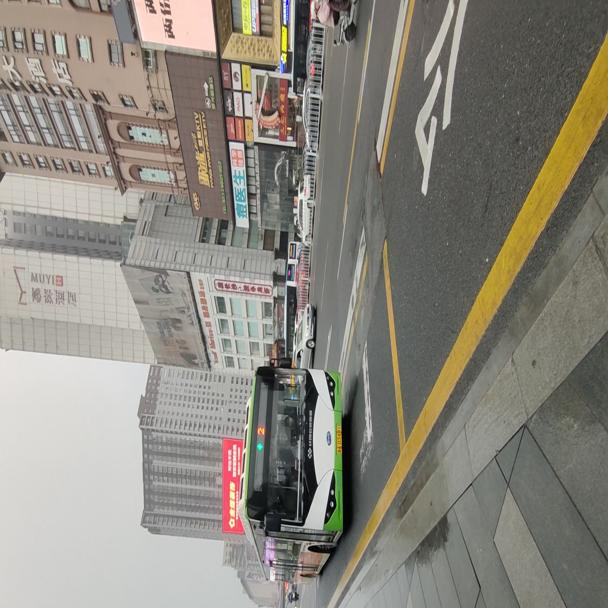bus: (236, 360, 343, 582)
screen: (256, 421, 264, 436)
